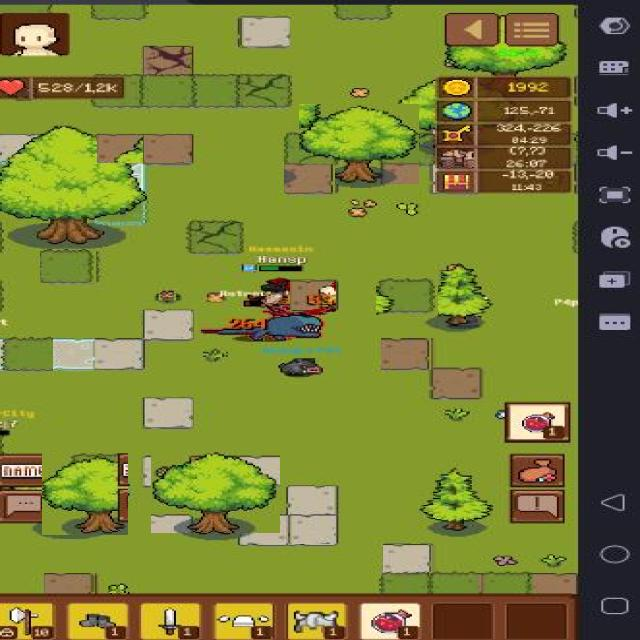astromophy: (206, 300, 326, 350)
earth_square: (381, 338, 431, 370), (429, 368, 480, 399), (284, 164, 335, 194), (290, 280, 336, 312), (143, 134, 192, 164), (143, 45, 192, 75), (97, 134, 143, 163), (44, 573, 95, 594), (530, 573, 576, 594)
grass: (394, 201, 426, 217), (203, 346, 226, 363), (542, 554, 564, 566), (445, 408, 468, 419), (108, 582, 128, 593)
gray_square: (284, 484, 335, 515), (238, 513, 288, 544), (95, 338, 143, 370), (46, 338, 93, 370), (143, 308, 193, 338), (143, 397, 193, 427), (240, 18, 290, 47), (143, 457, 193, 486), (290, 513, 336, 544), (383, 544, 431, 572), (0, 135, 33, 161)
green_square: (182, 68, 244, 112), (376, 278, 438, 315), (40, 249, 96, 283), (0, 336, 53, 371), (236, 74, 290, 108), (188, 220, 242, 252), (142, 74, 194, 106), (478, 569, 533, 596), (432, 569, 485, 597), (328, 1, 396, 22), (382, 572, 430, 595), (91, 5, 147, 20)
tree: (0, 122, 154, 246), (151, 451, 280, 533), (300, 104, 420, 184), (441, 10, 564, 76), (42, 454, 128, 536), (414, 262, 493, 326), (418, 467, 491, 531), (400, 78, 437, 129)
